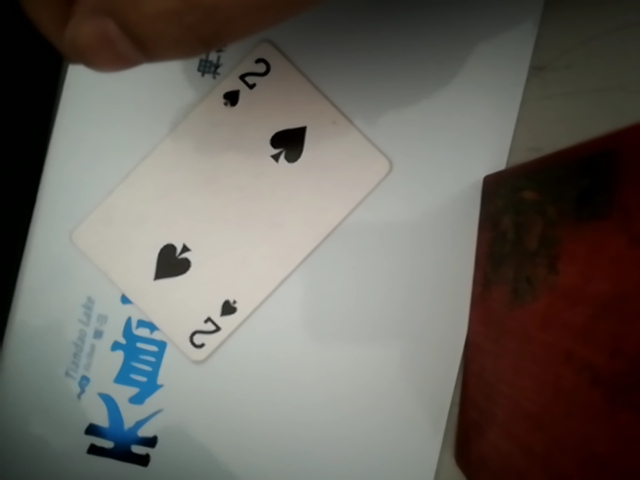ht 2: (72, 42, 384, 357)
